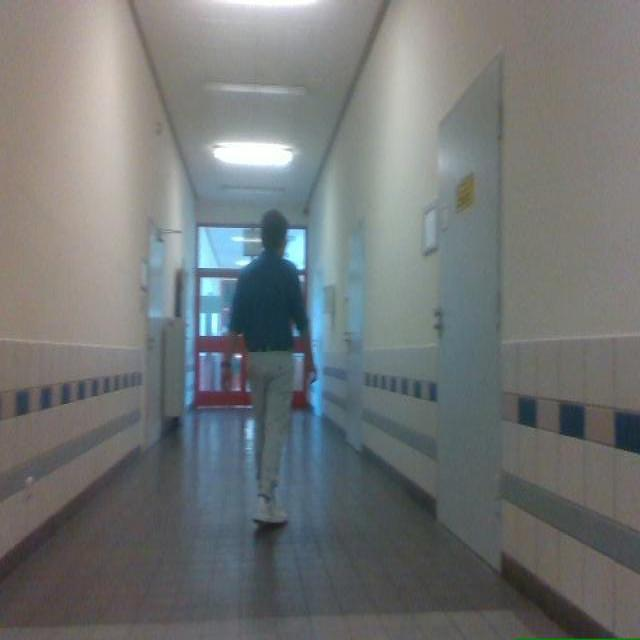humans: (222, 209, 315, 524)
